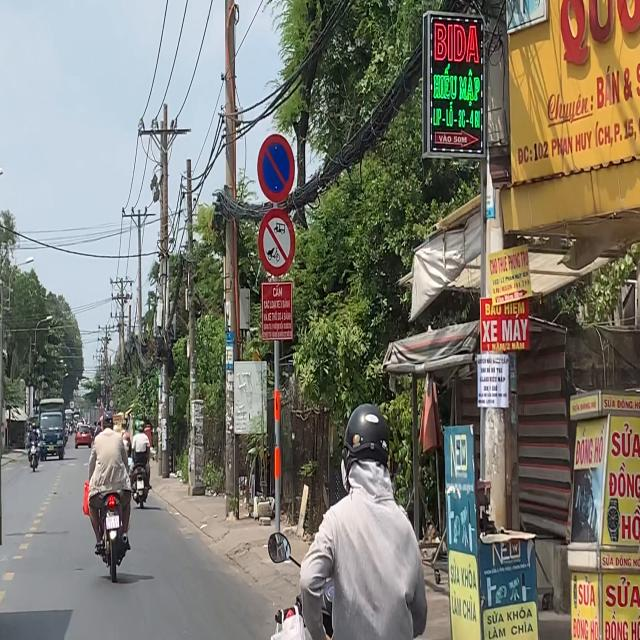Cam con lai: (258, 208, 295, 278)
Cam do: (257, 133, 295, 202)
